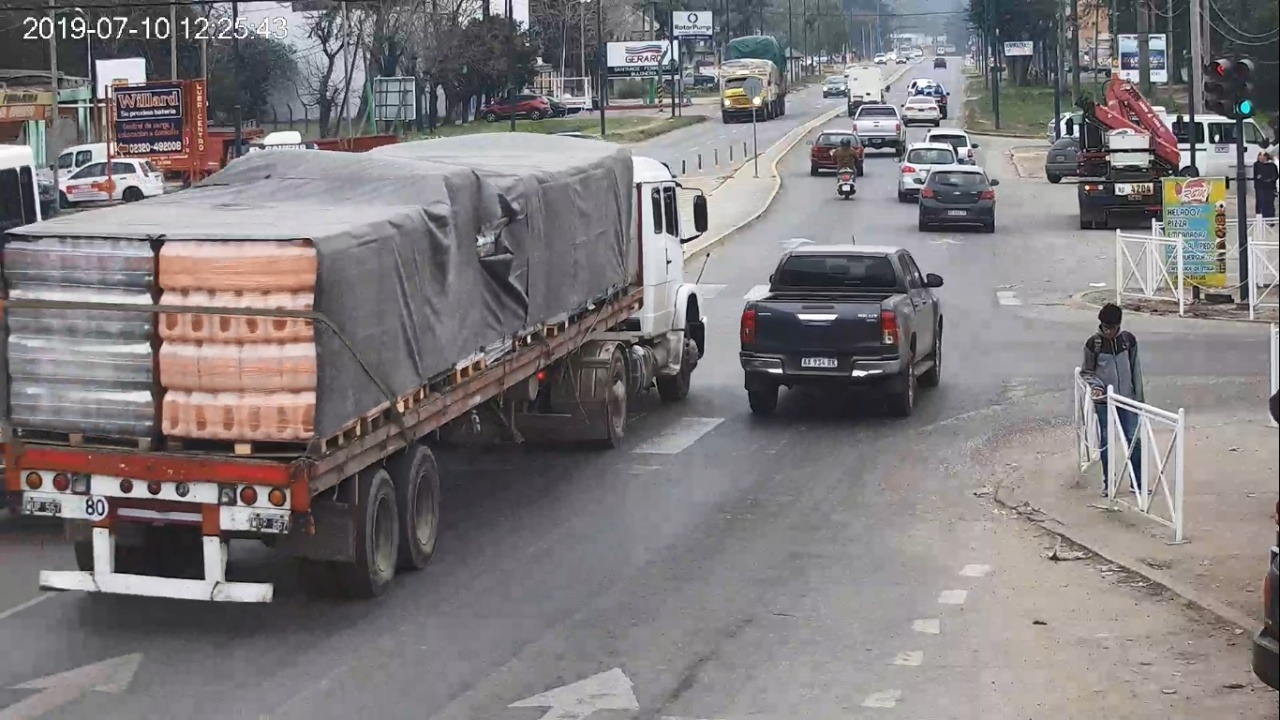car: (740, 248, 944, 417)
traffic light: (1235, 60, 1255, 117)
truck: (1, 131, 706, 605)
